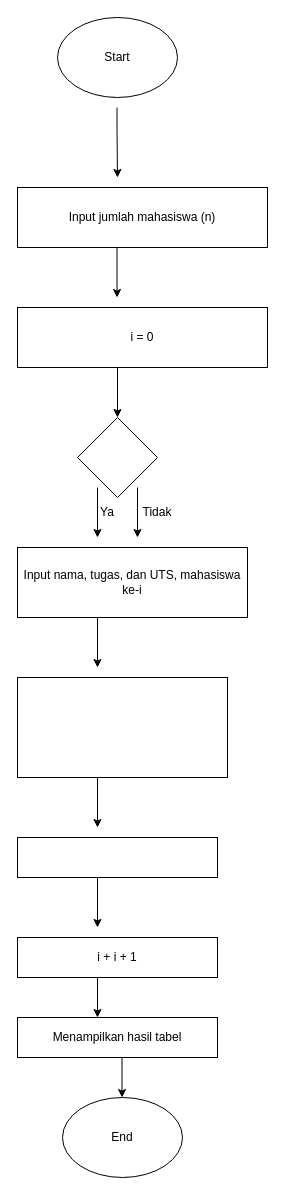
Image size: 285x1195. Some labels were removed from this diagram. The centre of each missing label's shape, as x and y in pixels:
"Hitung nilai akhir nilaiakhir[i]=(tugas[i] + uts[i])/2;" belongs at (x=122, y=727).
"i< n ?" belongs at (x=117, y=457).
"Tentukan grade (A-E)" belongs at (x=117, y=857).
